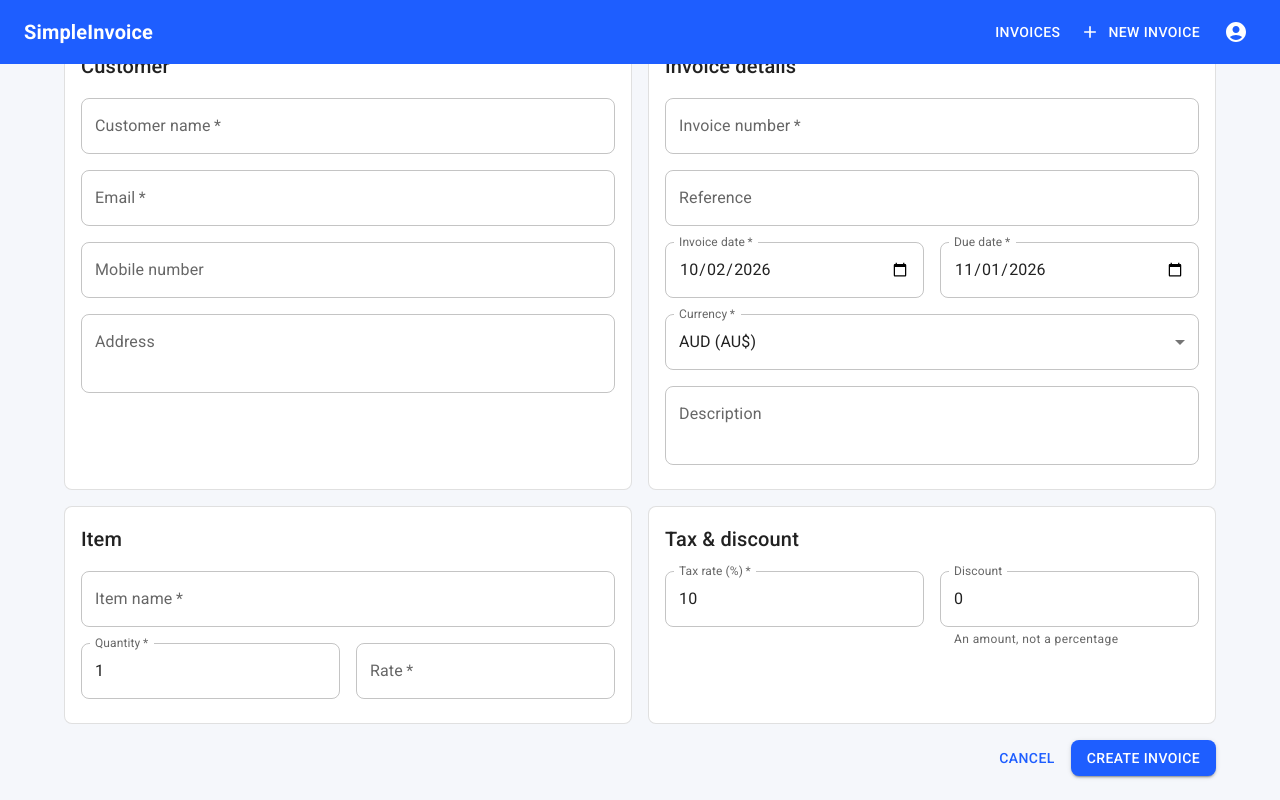
CreateInvoicePage › lists what is missing and focuses the first invalid field
(page scrolled)
What coordinates should you click on to do the following:
click the button "Create invoice"
I would click on:
 (1143, 758)
Its box is left=1071, top=740, right=1216, bottom=776.
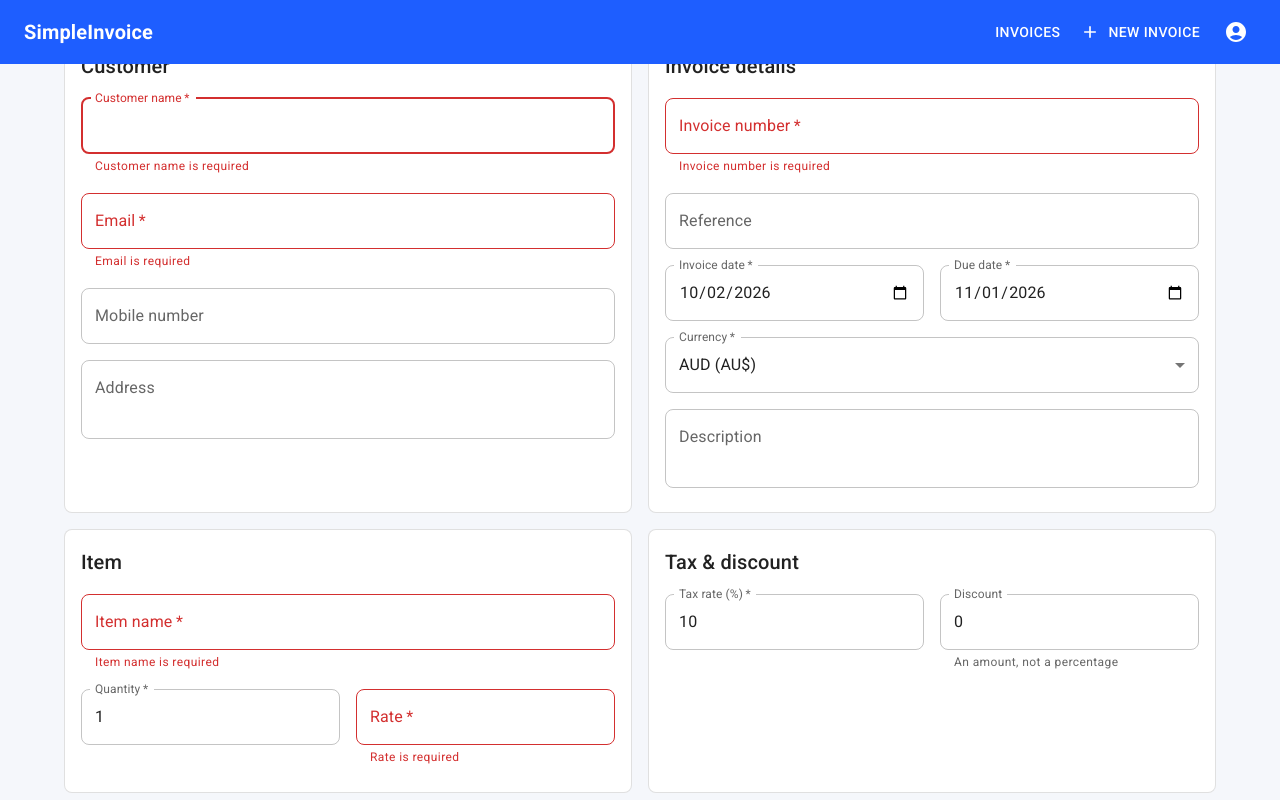
Result: the text "Customer name is required" is shown at left=95, top=159, right=249, bottom=173
Result: the text "Email is required" is shown at left=95, top=254, right=190, bottom=268
Result: the text "Invoice number is required" is shown at left=679, top=159, right=830, bottom=173
